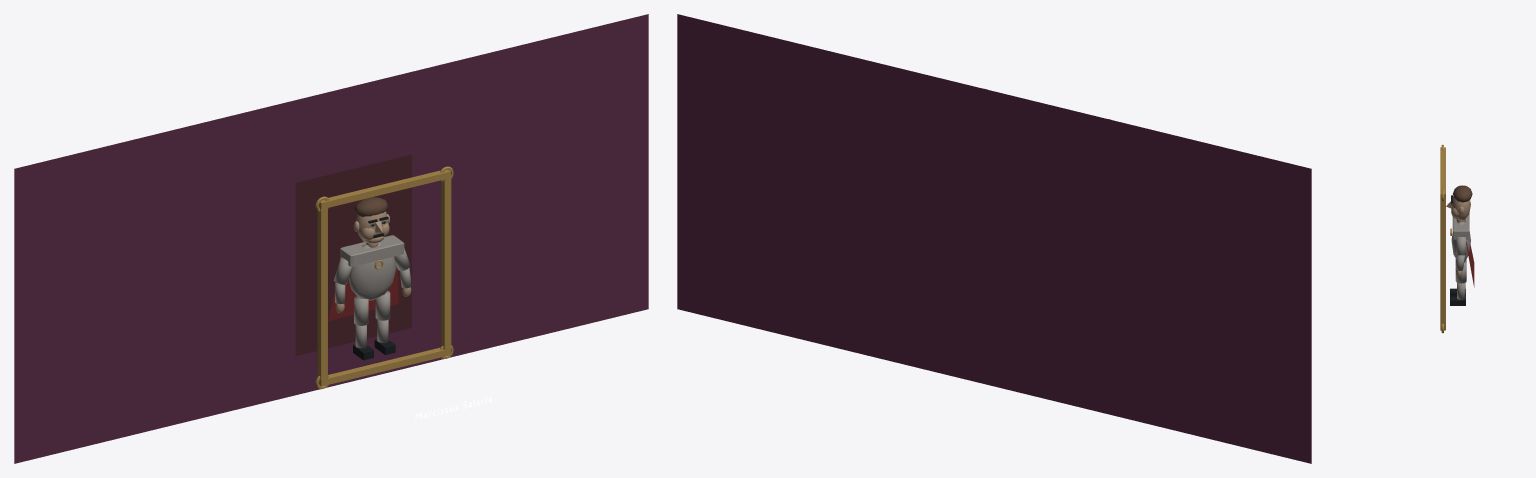
3 views of the same model, side by side, from view 1: azimuth 30°, elevation 25°; view 2: azimuth 150°, elevation 25°; view 3: azimuth 270°, elevation 25° (orthographic). The views are drawn at different scales.
Visible parts, largest first — view 1: H2 / portrait wall, H2 / portrait canvas proxy, H2 / portrait frame upright, H2 / portrait frame upright.001, H2 / Marcissus portrait torso, H2 / portrait frame crossbar.001, H2 / portrait frame crossbar, H2 / Marcissus portrait shoulders, H2 / Marcissus portrait cape; view 2: H2 / portrait wall; view 3: H2 / portrait frame upright.001, H2 / Marcissus portrait shoulders, H2 / portrait frame crossbar.001, H2 / Marcissus portrait basic hair, H2 / Marcissus portrait skull, H2 / Marcissus portrait torso, H2 / Marcissus portrait upper sleeve 1.
Part boxes in pixels (left/top/right/bottom): H2 / portrait wall: left=14, top=14, right=648, bottom=463; H2 / portrait canvas proxy: left=295, top=154, right=411, bottom=355; H2 / portrait frame upright: left=317, top=205, right=327, bottom=382; H2 / portrait frame upright.001: left=441, top=175, right=451, bottom=350; H2 / Marcissus portrait torso: left=348, top=242, right=396, bottom=300; H2 / portrait frame crossbar.001: left=319, top=170, right=450, bottom=208; H2 / portrait frame crossbar: left=319, top=347, right=450, bottom=386; H2 / Marcissus portrait shoulders: left=340, top=235, right=404, bottom=266; H2 / Marcissus portrait cape: left=328, top=253, right=398, bottom=320; H2 / portrait wall: left=677, top=14, right=1311, bottom=463; H2 / portrait frame upright.001: left=1440, top=196, right=1445, bottom=328; H2 / Marcissus portrait shoulders: left=1452, top=213, right=1469, bottom=239; H2 / portrait frame crossbar.001: left=1440, top=147, right=1445, bottom=197; H2 / Marcissus portrait basic hair: left=1453, top=185, right=1472, bottom=202; H2 / Marcissus portrait skull: left=1452, top=196, right=1470, bottom=220; H2 / Marcissus portrait torso: left=1451, top=222, right=1470, bottom=262; H2 / Marcissus portrait upper sleeve 1: left=1456, top=237, right=1466, bottom=255.
Bounding box in the file's own units: 18 × 8 × 6.
